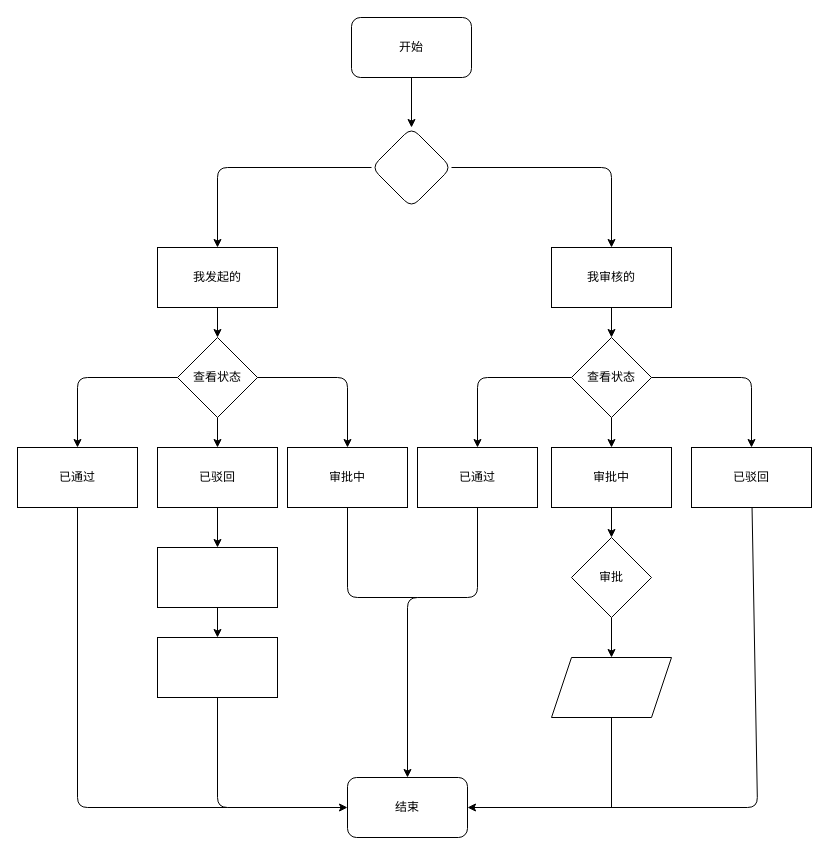
The diagram is 829 pixels wide and 855 high, and some of its shapes have lost their labels. Here are the shapes that lost their labels. From the top down, the centre of each, then its label:
At [411,167]: "选择操作".
At [217,577]: "重新编辑".
At [217,667]: "提交审核".
At [611,687]: "审批成功".
